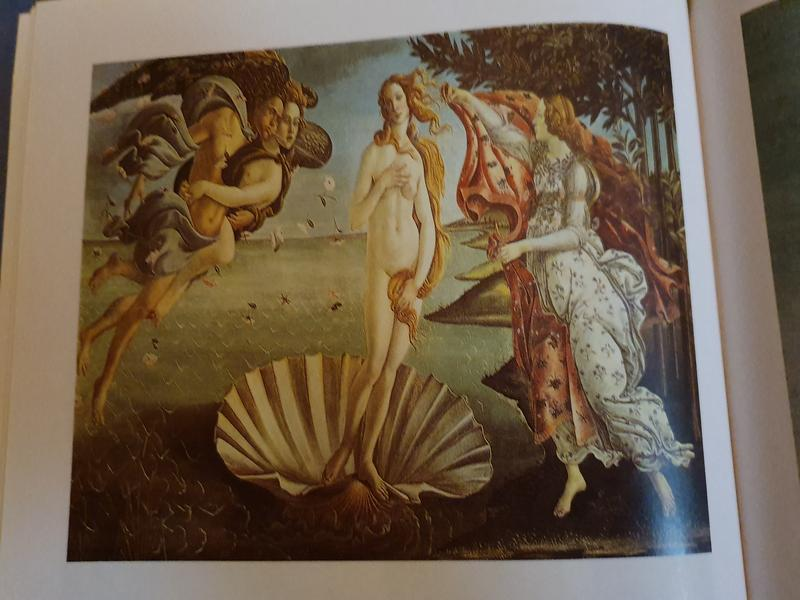Venere: (66, 27, 712, 564)
